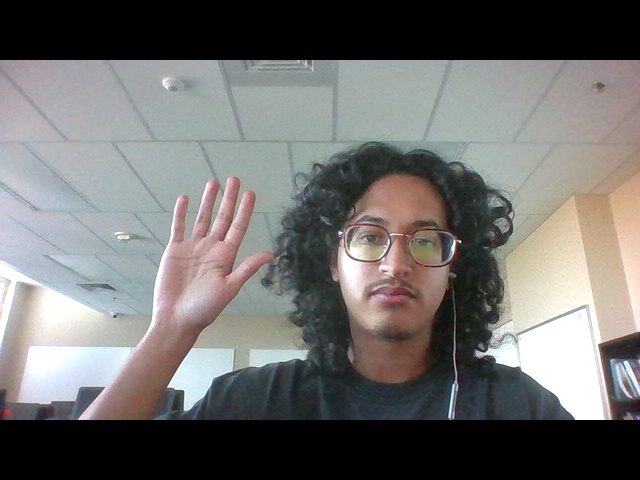hello: (145, 173, 279, 330)
